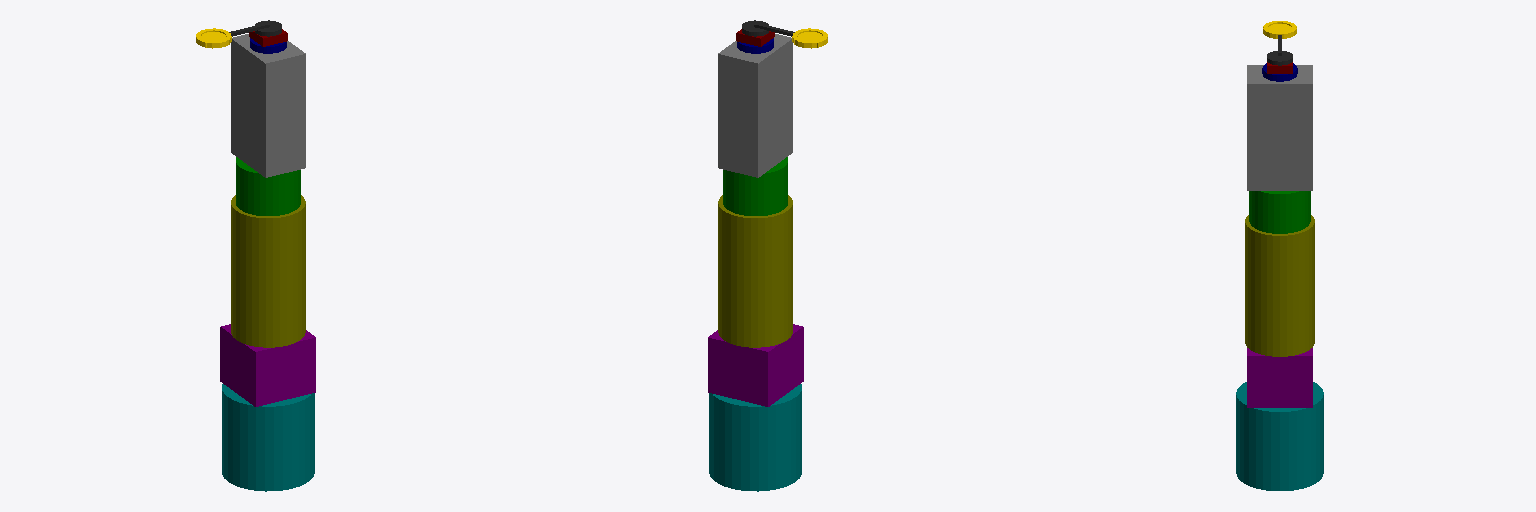
The robot description file, URDF, robot "sample_robot":
<?xml version="1.0"?>
<?xml-model href="https://raw.githubusercontent.com/ros/urdfdom/master/xsd/urdf.xsd"?>
<robot name="sample_robot" xmlns:xacro="http://ros.org/wiki/xacro"
>
  <link name="base">
    <inertial>
      <origin xyz="0 0 0.1" rpy="0 0 0" />
      <mass value="5.0" />
      <inertia ixx="0.0" ixy="0.0" ixz="0.0" iyy="0.0" iyz="0.0" izz="0.0" />
    </inertial>
    <visual>
      <origin xyz="0 0 0.1" rpy="0 0 0" />
      <geometry>
        <cylinder radius="0.1" length="0.2" />
      </geometry>
      <material name="base_mat">
        <color rgba="0.0 0.5 0.5 1.0" />
      </material>
    </visual>
    <!-- <collision>
      <origin xyz="0 0 0.1" rpy="0 0 0" />
      <geometry>
        <cylinder radius="0.1" length="0.2" />
      </geometry>
    </collision> -->
  </link>

  <link name="arm1">
    <inertial>
      <origin xyz="0 0 0.065" rpy="0 0 0" />
      <mass value="3.0" />
      <inertia ixx="0.0" ixy="0.0" ixz="0.0" iyy="0.0" iyz="0.0" izz="0.0" />
    </inertial>
    <visual>
      <origin xyz="0 0 0.065" rpy="0 0 0" />
      <geometry>
        <box size="0.15 0.15 0.13" />
      </geometry>
      <material name="arm1_mat">
        <color rgba="0.5 0.0 0.5 1.0" />
        <texture filename="path/to/texture/image.png" />
      </material>
    </visual>
    <!-- <collision>
      <origin xyz="0 0 0.065" rpy="0 0 0" />
      <geometry>
        <box size="0.15 0.15 0.13" />
      </geometry>
    </collision> -->
  </link>

  <joint name="base_to_arm1" type="revolute">
    <parent link="base" />
    <child link="arm1" />
    <origin xyz="0 0 0.2" rpy="0 0 0" />
    <axis xyz="0 0 1" />
    <limit effort="10" lower="-2.95859488" upper="3.01043116" velocity="1" />
  </joint>

  <link name="arm2">
    <inertial>
      <origin xyz="0 0 0.1525" rpy="0 0 0" />
      <mass value="2.5" />
      <inertia ixx="0.0" ixy="0.0" ixz="0.0" iyy="0.0" iyz="0.0" izz="0.0" />
    </inertial>
    <visual>
      <origin xyz="0 0 0.1525" rpy="0 0 0" />
      <geometry>
        <cylinder radius="0.08" length="0.305" />
      </geometry>
      <material name="arm2_mat">
        <color rgba="0.5 0.5 0.0 1.0" />
      </material>
    </visual>
    <!-- <collision>
      <origin xyz="0 0 0.1525" rpy="0 0 0" />
      <geometry>
        <cylinder radius="0.08" length="0.305" />
      </geometry>
    </collision> -->
  </link>

  <joint name="arm1_to_arm2" type="revolute">
    <parent link="arm1" />
    <child link="arm2" />
    <origin xyz="0 0 0.13" rpy="0 0 0" />
    <axis xyz="0 1 0" />
    <limit effort="10" lower="-1.56531425" upper="1.57627841" velocity="1" />
  </joint>

  <link name="arm3">
    <inertial>
      <origin xyz="0 0 0.05" rpy="0 0 0" />
      <mass value="1.5" />
      <inertia ixx="0.0" ixy="0.0" ixz="0.0" iyy="0.0" iyz="0.0" izz="0.0" />
    </inertial>
    <visual>
      <origin xyz="0 0 0.05" rpy="0 0 0" />
      <geometry>
        <cylinder radius="0.07" length="0.1" />
      </geometry>
      <material name="arm3_mat">
        <color rgba="0.0 0.5 0.0 1.0" />
      </material>
    </visual>
    <!-- <collision>
      <origin xyz="0 0 0.05" rpy="0 0 0" />
      <geometry>
        <cylinder radius="0.07" length="0.1" />
      </geometry>
    </collision> -->
  </link>

  <joint name="arm2_to_arm3" type="revolute">
    <parent link="arm2" />
    <child link="arm3" />
    <origin xyz="0 0 0.305" rpy="0 0 0" />
    <axis xyz="0 1 0" />
    <limit effort="10" lower="-1.966637" upper="2.00747771" velocity="1" />
  </joint>

  <link name="arm4">
    <inertial>
      <origin xyz="0 0 0.115" rpy="0 0 0" />
      <mass value="2.0" />
      <inertia ixx="0.0" ixy="0.0" ixz="0.0" iyy="0.0" iyz="0.0" izz="0.0" />
    </inertial>
    <visual>
      <origin xyz="0 0 0.135" rpy="0 0 0" />
      <geometry>
        <box size="0.1 0.15 0.27" />
      </geometry>
      <material name="arm4_mat">
        <color rgba="0.5 0.5 0.5 1.0" />
      </material>
    </visual>
    <collision>
      <origin xyz="0 0 0.135" rpy="0 0 0" />
      <geometry>
        <box size="0.1 0.15 0.27" />
      </geometry>
    </collision>
  </link>

  <joint name="arm3_to_arm4" type="revolute">
    <parent link="arm3" />
    <child link="arm4" />
    <origin xyz="0 0 0.1" rpy="0 0 0" />
    <axis xyz="0 0 1" />
    <limit effort="10" lower="-3.24423875" upper="3.24112826" velocity="1" />
  </joint>

  <link name="arm5">
    <inertial>
      <origin xyz="0 0 0.028" rpy="0 0 0" />
      <mass value="1.0" />
      <inertia ixx="0.0" ixy="0.0" ixz="0.0" iyy="0.0" iyz="0.0" izz="0.0" />
    </inertial>
    <visual>
      <origin xyz="0 0 0.028" rpy="0 0 0" />
      <geometry>
        <cylinder radius="0.04" length="0.056" />
      </geometry>
      <material name="arm5_mat">
        <color rgba="0.0 0.0 0.5 1.0" />
      </material>
    </visual>
    <collision>
      <origin xyz="0 0 0.028" rpy="0 0 0" />
      <geometry>
        <cylinder radius="0.04" length="0.056" />
      </geometry>
    </collision>
  </link>

  <joint name="arm4_to_arm5" type="revolute">
    <parent link="arm4" />
    <child link="arm5" />
    <origin xyz="0 0 0.23" rpy="0 0 0" />
    <axis xyz="0 1 0" />
    <limit effort="10" lower="-1.84411489" upper="1.83154852" velocity="1" />
  </joint>

  <link name="arm6">
    <inertial>
      <origin xyz="0 0 0.01" rpy="0 0 0" />
      <mass value="0.8" />
      <inertia ixx="0.0" ixy="0.0" ixz="0.0" iyy="0.0" iyz="0.0" izz="0.0" />
    </inertial>
    <visual>
      <origin xyz="0 0 0.01" rpy="0 0 0" />
      <geometry>
        <box size="0.06 0.06 0.02" />
      </geometry>
      <material name="arm6_mat">
        <color rgba="0.5 0.0 0.0 1.0" />
      </material>
    </visual>
    <collision>
      <origin xyz="0 0 0.01" rpy="0 0 0" />
      <geometry>
        <box size="0.06 0.06 0.02" />
      </geometry>
    </collision>
  </link>

  <joint name="arm5_to_arm6" type="revolute">
    <parent link="arm5" />
    <child link="arm6" />
    <origin xyz="0 0 0.056" rpy="0 0 0" />
    <axis xyz="0 0 1" />
    <limit effort="10" lower="-3.14470314" upper="3.20380241" velocity="1" />
  </joint>

  <link name="end_effector">
    <inertial>
      <origin xyz="0.0675 0 0.003" rpy="0 0 0" />
      <mass value="0.0" />
      <inertia ixx="0.0" ixy="0.0" ixz="0.0" iyy="0.0" iyz="0.0" izz="0.0" />
    </inertial>
    <visual>
      <origin xyz="0.05 0 0.003" rpy="0 0 0" />
      <geometry>
        <box size="0.1 0.01 0.007" />
      </geometry>
      <material name="ee_mat">
        <color rgba="0.2 0.2 0.2 1.0" />
      </material>
    </visual>
    <collision>
      <origin xyz="0.05 0 0.003" rpy="0 0 0" />
      <geometry>
        <box size="0.1 0.01 0.006" />
      </geometry>
    </collision>

    <visual>
      <origin xyz="0 0 -0.005" rpy="0 0 0" />
      <geometry>
        <cylinder radius="0.03" length="0.01" />
      </geometry>
      <material name="ee_mat">
        <color rgba="0.2 0.2 0.2 1.0" />
      </material>
    </visual>
    <!-- <collision>
      <origin xyz="0.05 0 0.003" rpy="0 0 0" />
      <geometry>
        <box size="0.1 0.01 0.006" />
      </geometry>
    </collision> -->
  </link>

  <joint name="arm6_to_ee" type="fixed">
    <parent link="arm6" />
    <child link="end_effector" />
    <origin xyz="0 0 0.03" rpy="0 0 3.14159265359" />
  </joint>

  <link name="hoop">
    <inertial>
      <origin xyz="0 0 0.003" rpy="0 0 0" />
      <mass value="0.0" />
      <inertia ixx="0.0" ixy="0.0" ixz="0.0" iyy="0.0" iyz="0.0" izz="0.0" />
    </inertial>
    <!-- Approximate a thin hoop (cylinder with hole) using 16 thin boxes around the edge -->
    <!-- Parameters: radius ~ midpoint between 0.06 and 0.055, box size: radial x, tangential y, height z -->
    <!-- <material name="hoop_mat">
      <color rgba="1.0 0.84 0.0 1.0" />
    </material> -->

    

    <visual>
      <origin xyz="0 0 0.003" rpy="0 0 0" />
      <geometry>
        <cylinder radius="0.0348" length="0.006" />
      </geometry>
      <material name="hoop_mat">
        <color rgba="1.0 0.84 0.0 1.0" />
      </material>
    </visual>

    <!-- 16 segments -->
    <!-- 1 -->
    <visual>
      <origin xyz="0.0324 0 0.003" rpy="0 0 0" />
      <geometry><box size="0.010 0.018 0.012" /></geometry>
      <material name="hoop_mat"/>
    </visual>
    <collision>
      <origin xyz="0.0324 0 0.003" rpy="0 0 0" />
      <geometry><box size="0.010 0.018 0.012" /></geometry>
    </collision>

    <!-- 2 -->
    <visual>
      <origin xyz="0.0299 0.01239 0.003" rpy="0 0 0.3926990817" />
      <geometry><box size="0.010 0.018 0.012" /></geometry>
      <material name="hoop_mat"/>
    </visual>
    <collision>
      <origin xyz="0.0299 0.01239 0.003" rpy="0 0 0.3926990817" />
      <geometry><box size="0.010 0.018 0.012" /></geometry>
    </collision>

    <!-- 3 -->
    <visual>
      <origin xyz="0.02291 0.02291 0.003" rpy="0 0 0.7853981634" />
      <geometry><box size="0.010 0.018 0.012" /></geometry>
      <material name="hoop_mat"/>
    </visual>
    <collision>
      <origin xyz="0.02291 0.02291 0.003" rpy="0 0 0.7853981634" />
      <geometry><box size="0.010 0.018 0.012" /></geometry>
    </collision>

    <!-- 4 -->
    <visual>
      <origin xyz="0.011874 0.0301455 0.003" rpy="0 0 1.1780972451" />
      <geometry><box size="0.010 0.018 0.012" /></geometry>
      <material name="hoop_mat"/>
    </visual>
    <collision>
      <origin xyz="0.011874 0.0301455 0.003" rpy="0 0 1.1780972451" />
      <geometry><box size="0.010 0.018 0.012" /></geometry>
    </collision>

    <!-- 5 -->
    <visual>
      <origin xyz="0 0.0324 0.003" rpy="0 0 1.5707963268" />
      <geometry><box size="0.010 0.018 0.012" /></geometry>
      <material name="hoop_mat"/>
    </visual>
    <collision>
      <origin xyz="0 0.0324 0.003" rpy="0 0 1.5707963268" />
      <geometry><box size="0.010 0.018 0.012" /></geometry>
    </collision>

    <!-- 6 -->
    <visual>
      <origin xyz="-0.011874 0.0301455 0.003" rpy="0 0 1.9634954086" />
      <geometry><box size="0.010 0.018 0.012" /></geometry>
      <material name="hoop_mat"/>
    </visual>
    <collision>
      <origin xyz="-0.011874 0.0301455 0.003" rpy="0 0 1.9634954086" />
      <geometry><box size="0.010 0.018 0.012" /></geometry>
    </collision>

    <!-- 7 -->
    <visual>
      <origin xyz="-0.02291 0.02291 0.003" rpy="0 0 2.3561944902" />
      <geometry><box size="0.010 0.018 0.012" /></geometry>
      <material name="hoop_mat"/>
    </visual>
    <collision>
      <origin xyz="-0.02291 0.02291 0.003" rpy="0 0 2.3561944902" />
      <geometry><box size="0.010 0.018 0.012" /></geometry>
    </collision>

    <!-- 8 -->
    <visual>
      <origin xyz="-0.0299 0.01239 0.003" rpy="0 0 2.7488935719" />
      <geometry><box size="0.010 0.018 0.012" /></geometry>
      <material name="hoop_mat"/>
    </visual>
    <collision>
      <origin xyz="-0.0299 0.01239 0.003" rpy="0 0 2.7488935719" />
      <geometry><box size="0.010 0.018 0.012" /></geometry>
    </collision>

    <!-- 9 -->
    <visual>
      <origin xyz="-0.0324 0 0.003" rpy="0 0 0" />
      <geometry><box size="0.010 0.018 0.012" /></geometry>
      <material name="hoop_mat"/>
    </visual>
    <collision>
      <origin xyz="-0.0324 0 0.003" rpy="0 0 0" />
      <geometry><box size="0.010 0.018 0.012" /></geometry>
    </collision>

    <!-- 10 -->
    <visual>
      <origin xyz="-0.0299 -0.01239 0.003" rpy="0 0 0.3926990817" />
      <geometry><box size="0.010 0.018 0.012" /></geometry>
      <material name="hoop_mat"/>
    </visual>
    <collision>
      <origin xyz="-0.0299 -0.01239 0.003" rpy="0 0 0.3926990817" />
      <geometry><box size="0.010 0.018 0.012" /></geometry>
    </collision>

    <!-- 11 -->
    <visual>
      <origin xyz="-0.02291 -0.02291 0.003" rpy="0 0 0.7853981634" />
      <geometry><box size="0.010 0.018 0.012" /></geometry>
      <material name="hoop_mat"/>
    </visual>
    <collision>
      <origin xyz="-0.02291 -0.02291 0.003" rpy="0 0 0.7853981634" />
      <geometry><box size="0.010 0.018 0.012" /></geometry>
    </collision>

    <!-- 12 -->
    <visual>
      <origin xyz="-0.011874 -0.0301455 0.003" rpy="0 0 1.1780972451" />
      <geometry><box size="0.010 0.018 0.012" /></geometry>
      <material name="hoop_mat"/>
    </visual>
    <collision>
      <origin xyz="-0.011874 -0.0301455 0.003" rpy="0 0 1.1780972451" />
      <geometry><box size="0.010 0.018 0.012" /></geometry>
    </collision>

    <!-- 13 -->
    <visual>
      <origin xyz="0 -0.0324 0.003" rpy="0 0 1.5707963268" />
      <geometry><box size="0.010 0.018 0.012" /></geometry>
      <material name="hoop_mat"/>
    </visual>
    <collision>
      <origin xyz="0 -0.0324 0.003" rpy="0 0 1.5707963268" />
      <geometry><box size="0.010 0.018 0.012" /></geometry>
    </collision>

    <!-- 14 -->
    <visual>
      <origin xyz="0.011874 -0.0301455 0.003" rpy="0 0 1.9634954086" />
      <geometry><box size="0.010 0.018 0.012" /></geometry>
      <material name="hoop_mat"/>
    </visual>
    <collision>
      <origin xyz="0.011874 -0.0301455 0.003" rpy="0 0 1.9634954086" />
      <geometry><box size="0.010 0.018 0.012" /></geometry>
    </collision>

    <!-- 15 -->
    <visual>
      <origin xyz="0.02291 -0.02291 0.003" rpy="0 0 2.3561944902" />
      <geometry><box size="0.010 0.018 0.012" /></geometry>
      <material name="hoop_mat"/>
    </visual>
    <collision>
      <origin xyz="0.02291 -0.02291 0.003" rpy="0 0 2.3561944902" />
      <geometry><box size="0.010 0.018 0.012" /></geometry>
    </collision>

    <!-- 16 -->
    <visual>
      <origin xyz="0.0299 -0.01239 0.003" rpy="0 0 2.7488935719" />
      <geometry><box size="0.010 0.018 0.012" /></geometry>
      <material name="hoop_mat"/>
    </visual>
    <collision>
      <origin xyz="0.0299 -0.01239 0.003" rpy="0 0 2.7488935719" />
      <geometry><box size="0.010 0.018 0.012" /></geometry>
    </collision>


    <!-- <collision>
      <origin xyz="0 0 0.005" rpy="0 0 0" />
      <geometry>
        <cylinder radius="0.06" length="0.01" />
      </geometry>
    </collision> -->
  </link>

  <joint name="ee_to_hoop" type="fixed">
    <parent link="end_effector" />
    <child link="hoop" />
    <origin xyz="0.135 0 0" rpy="0 0 0" />
  </joint>

  <link name="robot_end_pos">
    <inertial>
      <origin xyz="0 0 0" rpy="0 0 0" />
      <mass value="0.0" />
      <inertia ixx="0.0" ixy="0.0" ixz="0.0" iyy="0.0" iyz="0.0" izz="0.0" />
    </inertial>
  </link>

  <joint name="arm6_to_robot_end_pos" type="fixed">
    <parent link="arm6" />
    <child link="robot_end_pos" />
    <origin xyz="0 0 0.02" rpy="0 0 0" />
  </joint>

</robot>

--- Facts derived from the render (not from the file) ---
3 views of the same robot in one strip: view 1: azimuth 30°, elevation 25°; view 2: azimuth 150°, elevation 25°; view 3: azimuth 270°, elevation 25° (orthographic).
Robot: sample_robot — 10 links, 9 joints (6 revolute, 3 fixed); root link base; default pose: all joints at 0.
Visible links, largest first — view 1: arm2, arm4, base, arm1, arm3, hoop; view 2: arm2, arm4, base, arm1, arm3, hoop; view 3: arm2, arm4, base, arm1, arm3.
Boxes of the visible links, x1,y1,x2,y2 form: arm2: [231, 195, 305, 347]; arm4: [231, 34, 305, 177]; base: [222, 384, 314, 491]; arm1: [220, 324, 315, 406]; arm3: [236, 157, 300, 215]; hoop: [196, 28, 231, 48]; arm2: [718, 195, 792, 347]; arm4: [718, 34, 792, 177]; base: [709, 384, 801, 491]; arm1: [708, 324, 803, 406]; arm3: [723, 157, 787, 215]; hoop: [792, 28, 827, 48]; arm2: [1245, 215, 1314, 356]; arm4: [1247, 65, 1312, 190]; base: [1236, 382, 1323, 490]; arm1: [1247, 348, 1312, 407]; arm3: [1249, 191, 1310, 233].
Size in the robot's own frame: 0.273 by 0.2 by 1.06 metres.
Geometry: primitives only (box / cylinder / sphere), no mesh files.
